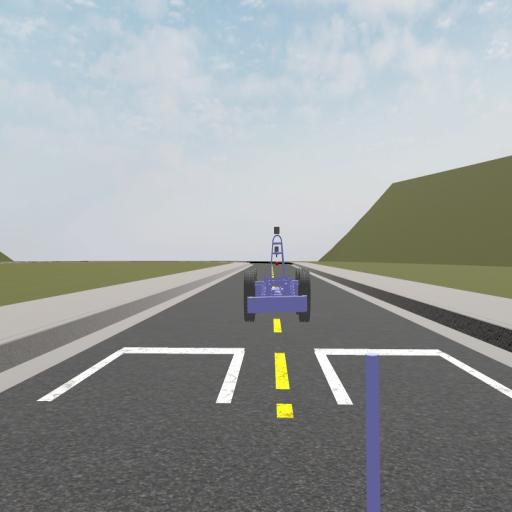ERP-42: (245, 226, 311, 323)
